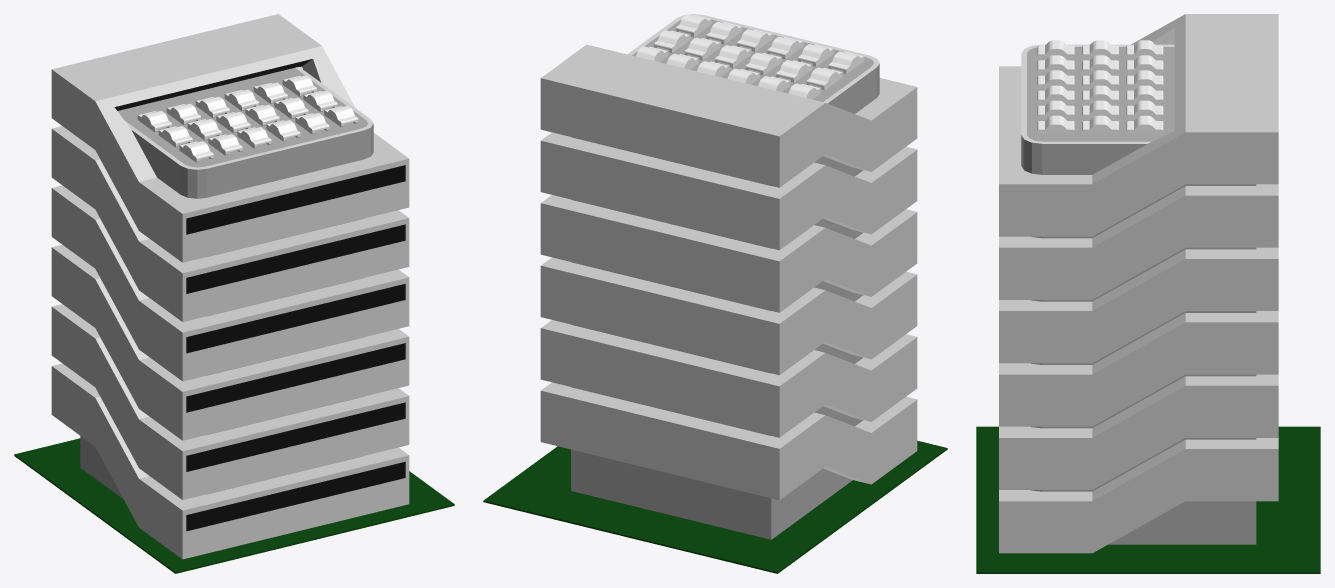
File: aprtment_huge.fbx
3 renders of one model, left to right at view 1: azimuth 30°, elevation 25°; view 2: azimuth 150°, elevation 25°; view 3: azimuth 270°, elevation 25°, orthographic. The views are drawn at different scales.
Visible parts, largest first — view 1: Cube.001, Cube, Cube.002; view 2: Cube.001, Cube, Cube.002; view 3: Cube.001, Cube, Cube.002.
Boxes of the visible parts, box(x1,y1,x2,y2) form: Cube.001: box(51, 14, 409, 559); Cube: box(14, 438, 454, 573); Cube.002: box(137, 75, 358, 162); Cube.001: box(540, 14, 917, 539); Cube: box(483, 440, 947, 573); Cube.002: box(636, 14, 864, 99); Cube.001: box(999, 14, 1278, 553); Cube: box(976, 426, 1320, 573); Cube.002: box(1037, 40, 1163, 135).
Size of the model in its own units: 200 by 271 by 200.
